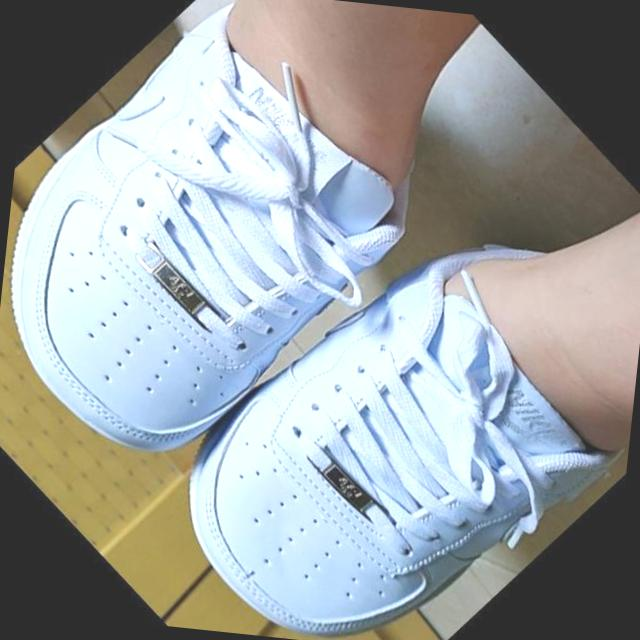nike_fake_airforce: (0, 0, 465, 524), (129, 179, 640, 640)
